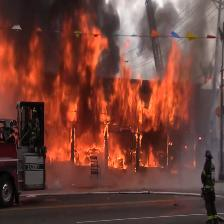fire: (4, 56, 166, 152)
smoke: (6, 4, 89, 32)
